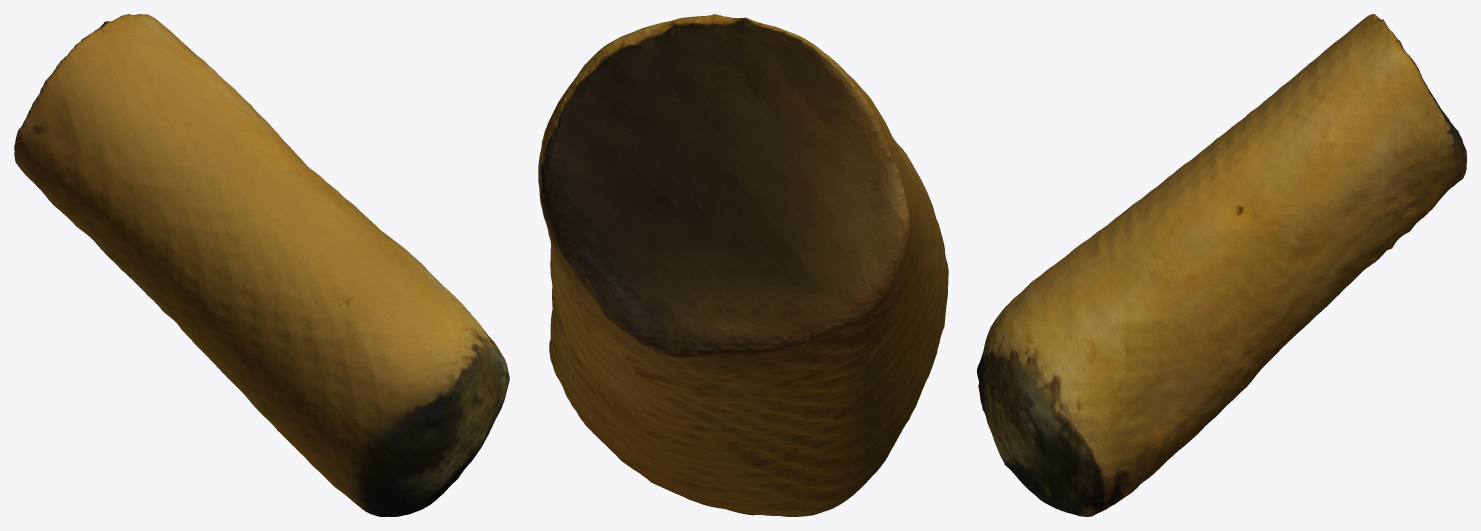
Rendered from 2_rgba.obj.
The picture shows the model from 3 angles, left to right: view 1: azimuth 30°, elevation 25°; view 2: azimuth 150°, elevation 25°; view 3: azimuth 270°, elevation 25°; orthographic projection. The views are drawn at different scales.
Bounding box in the file's own units: 1.45 × 1.71 × 1.82.
Materials: 1 (1 with a texture image).
